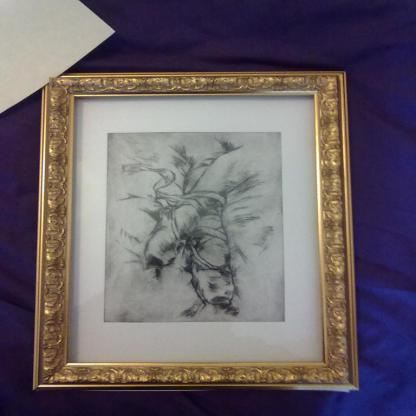Picture-frame: (33, 71, 355, 388)
